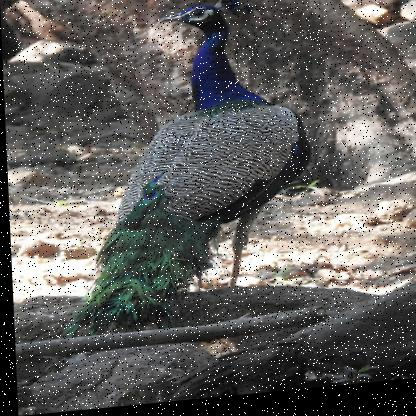Burung: (46, 0, 312, 339)
